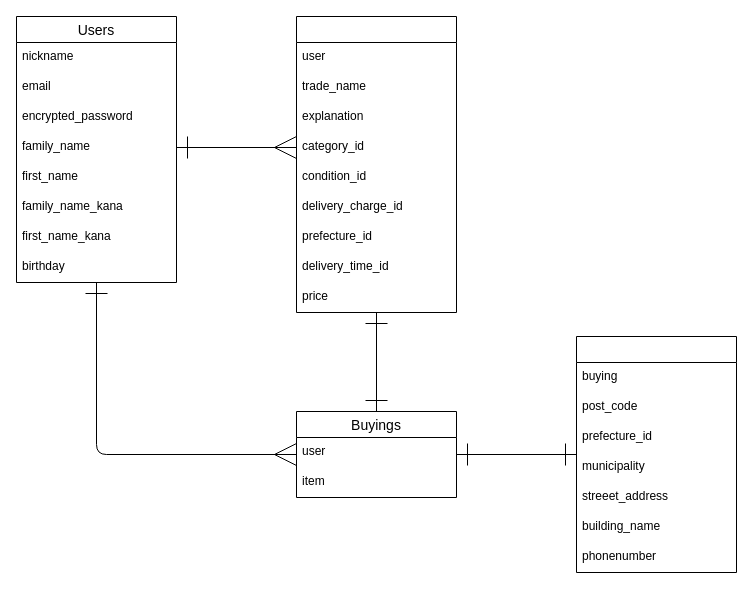
Image size: 753x589. Some labels were removed from this diagram. The box of each missing label's shape, as (x1, y1, x2, y2) in pixels:
Addresses: (576, 336, 736, 572)
Items: (296, 16, 456, 312)
